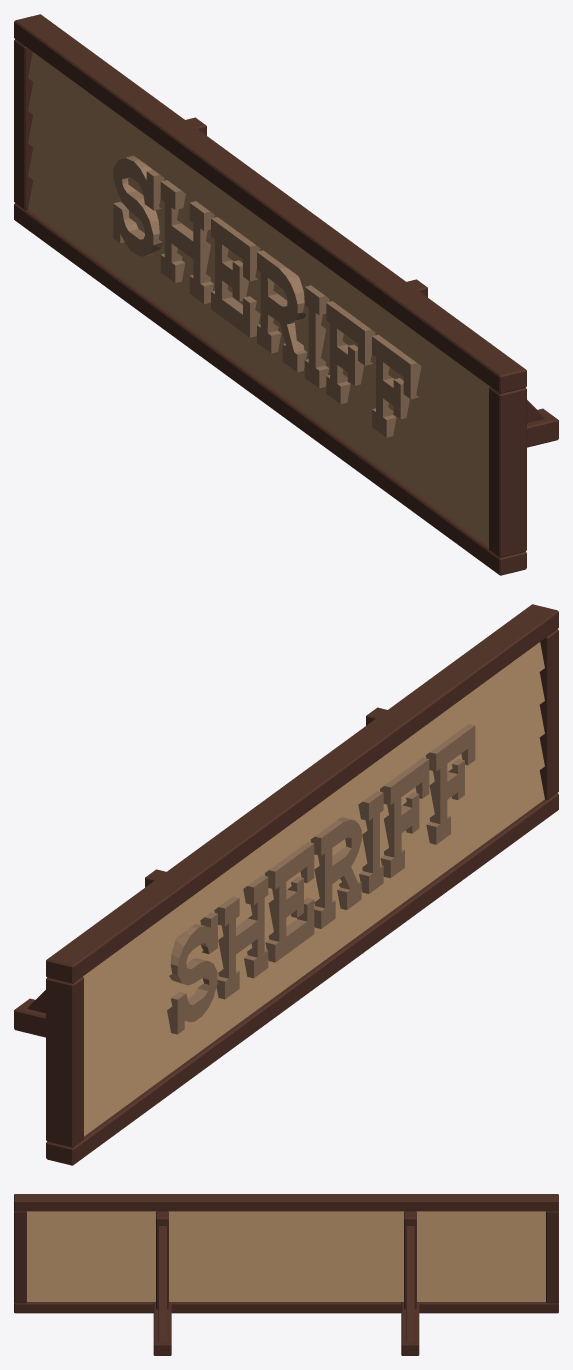
The model's file is sheriff-sign-a.glb.
The picture shows the model from 3 angles, top to bottom: view 1: azimuth 30°, elevation 25°; view 2: azimuth 150°, elevation 25°; view 3: azimuth 270°, elevation 25°; orthographic projection. The views are drawn at different scales.
Parts seen in each view (by area): view 1: Sheriff Sign A (×3); view 2: Sheriff Sign A (×3); view 3: Sheriff Sign A (×2).
Part boxes in pixels (<box>): Sheriff Sign A (×3): <box>14,14,558,575</box>; Sheriff Sign A (×3): <box>14,604,558,1165</box>; Sheriff Sign A (×2): <box>14,1194,558,1355</box>.
Size of the model in its own units: 1.46 by 1.5 by 6.6.
